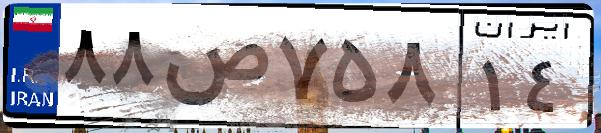1: (475, 38, 525, 113)
4: (525, 38, 570, 115)
5: (330, 28, 385, 110)
7: (270, 28, 330, 110)
8: (385, 28, 445, 110), (57, 26, 110, 100), (110, 28, 158, 98)
ص: (158, 20, 270, 120)
